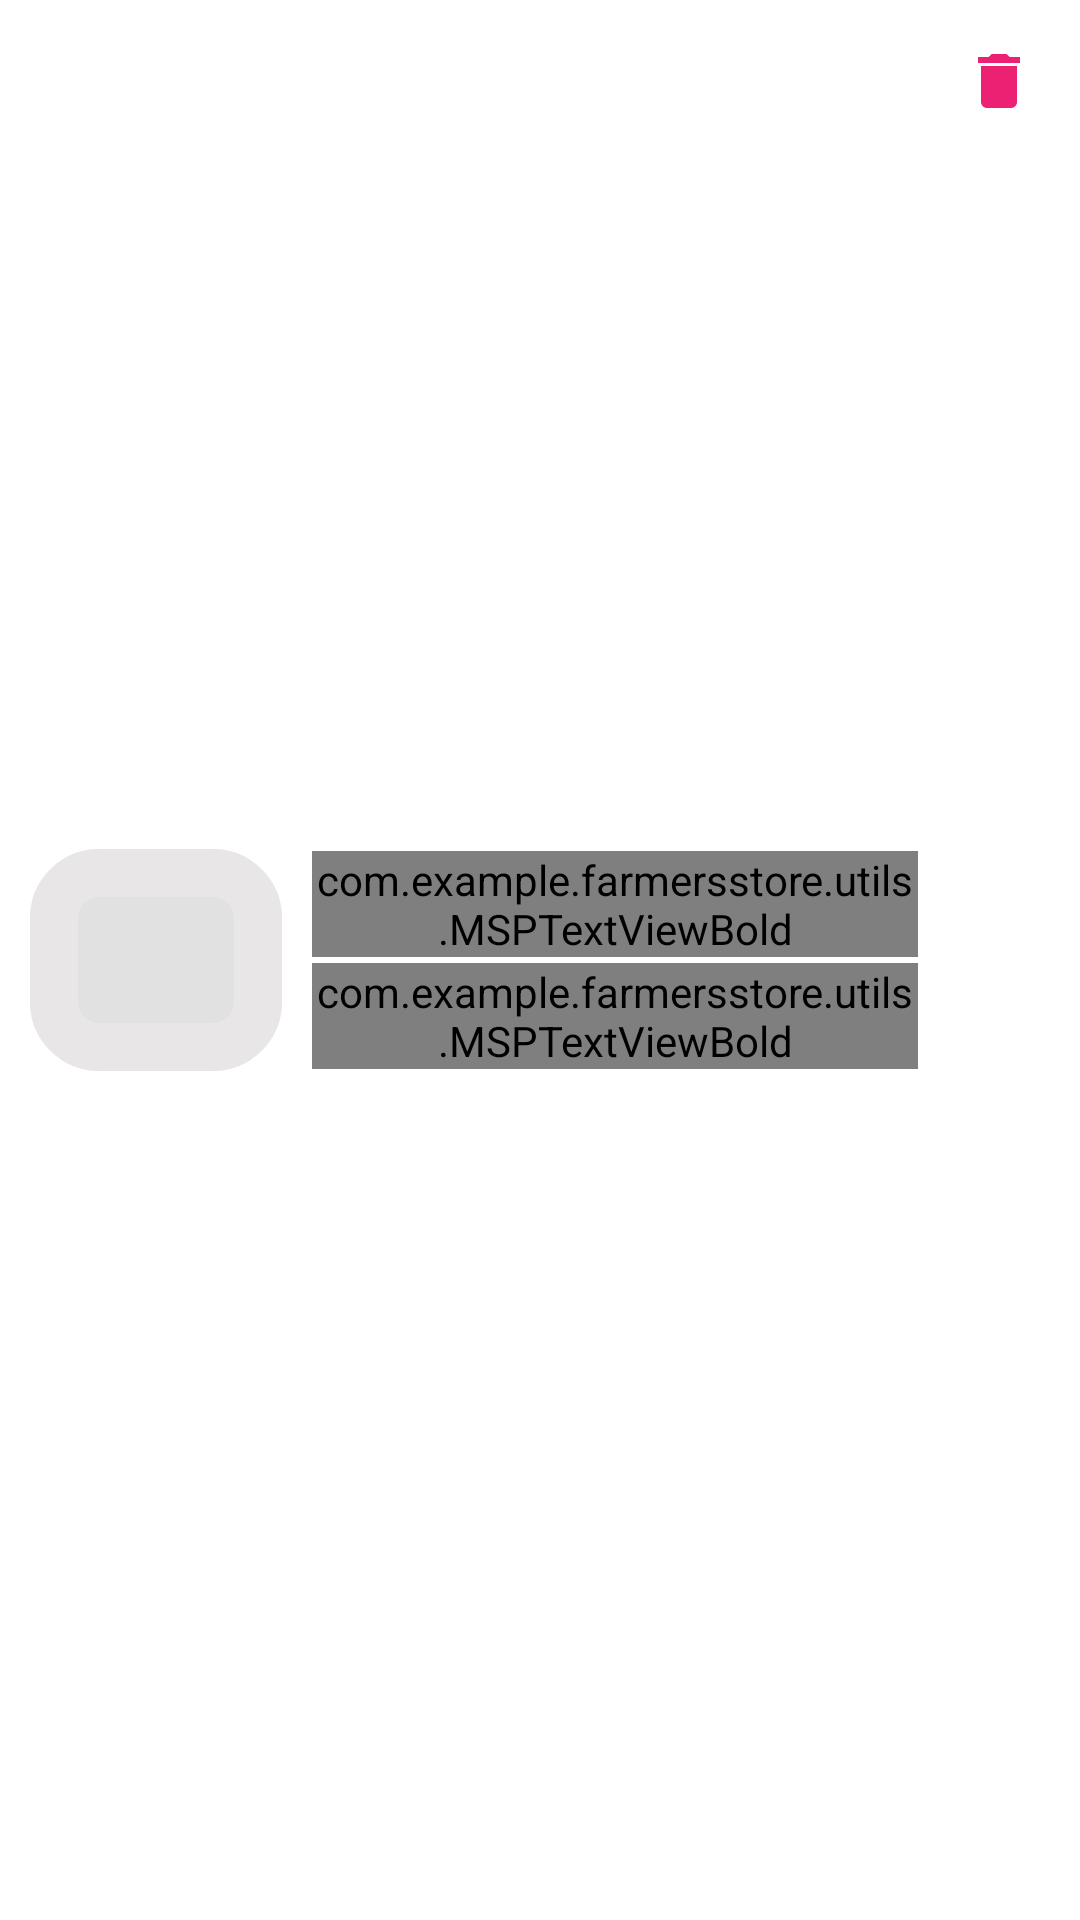

Icon bounding boxes for this 1080px x 1920px phone screenshot, format (x1, y1, x2, y2):
delete item: (978, 54, 1020, 108)
